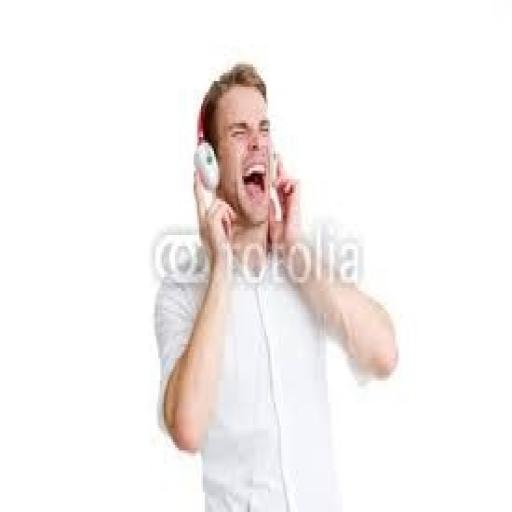listening_to_music: (151, 59, 400, 509)
